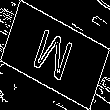M_SW: (31, 23, 79, 87)
